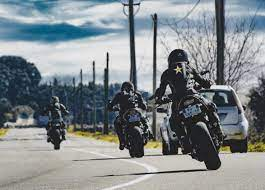moto: (168, 100, 229, 169), (113, 112, 153, 157), (46, 121, 69, 150)
person: (159, 50, 210, 106), (113, 80, 146, 117), (46, 94, 66, 121)
